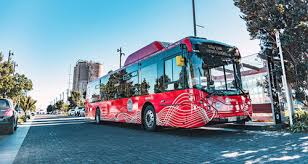bus: (84, 35, 253, 129)
